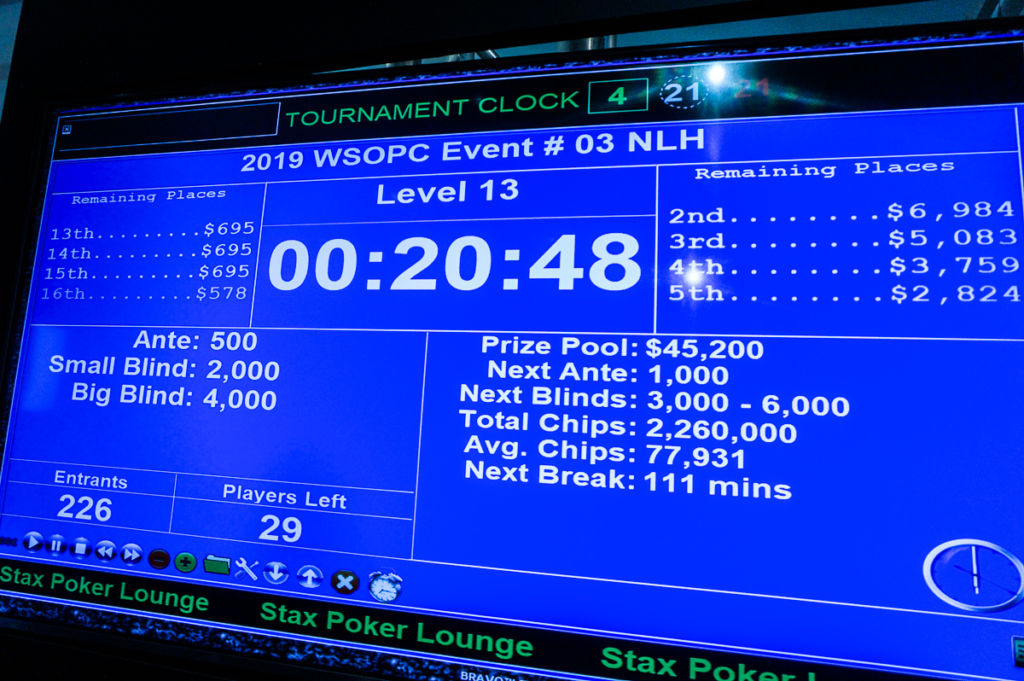PlayersLeft: (167, 465, 419, 553)
Remaining: (657, 162, 1024, 337), (31, 185, 264, 323)
TournamentClock: (5, 94, 1024, 619)
